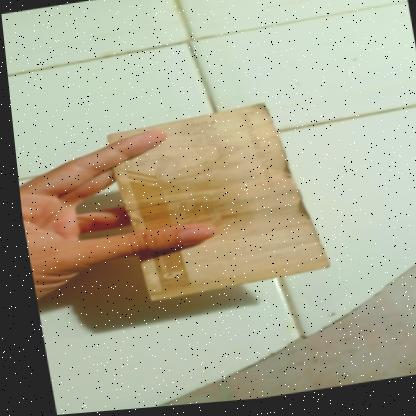five-back-vef: (99, 100, 325, 306)
